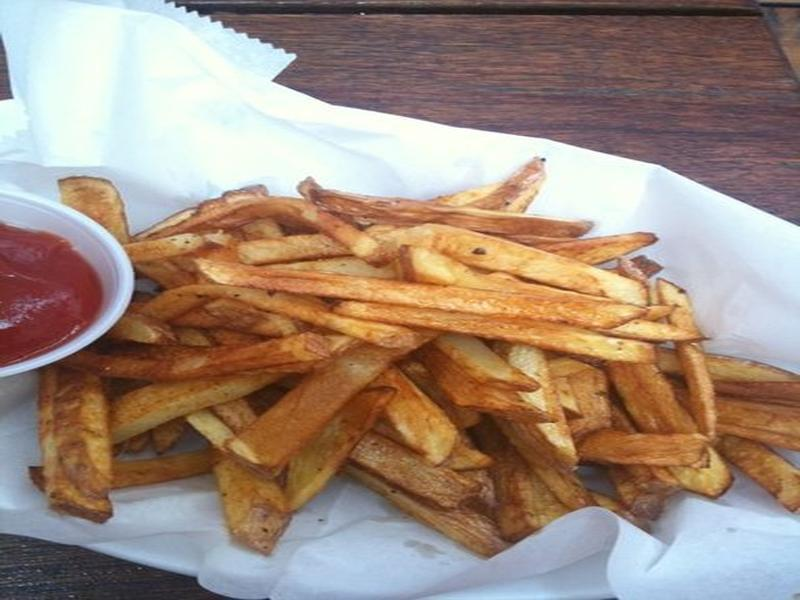french_fries: (15, 101, 791, 571)
